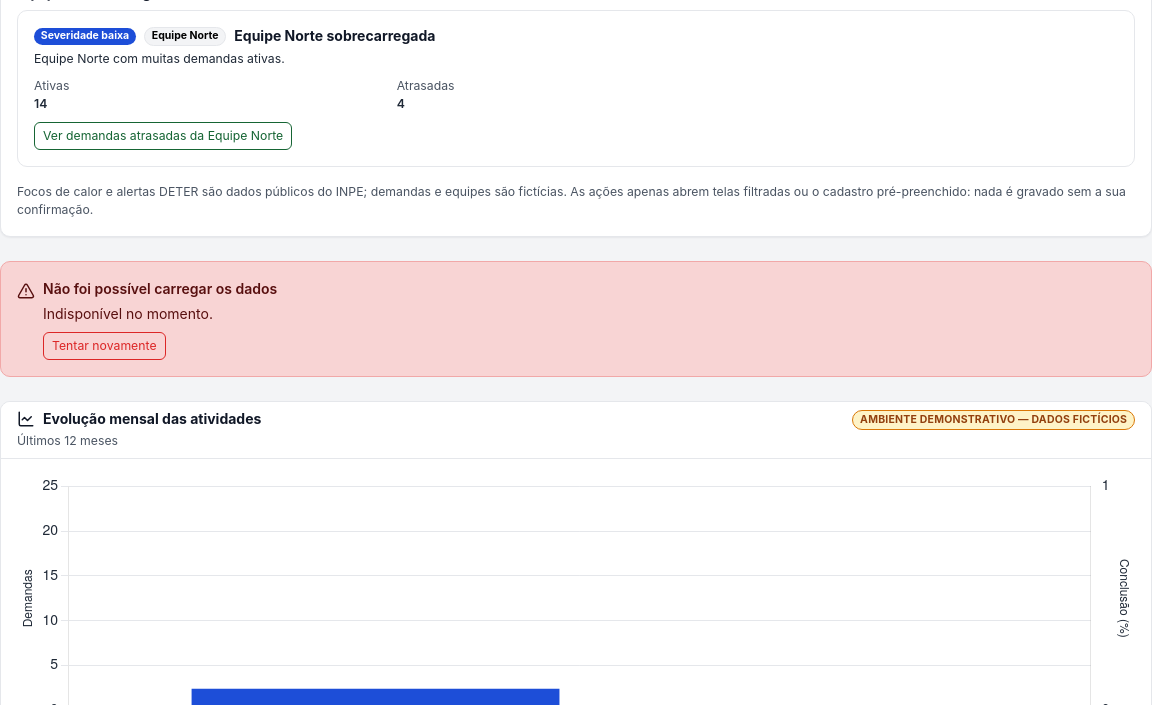
Scenario: HomePage (dashboard inicial) › mostra erro com "Tentar novamente"
(page scrolled)
Check: the message shows "Indisponível no momento", box [43,305,213,322]
Click the button "Tentar novamente". click: (104, 346)
box: [43,332,166,360]
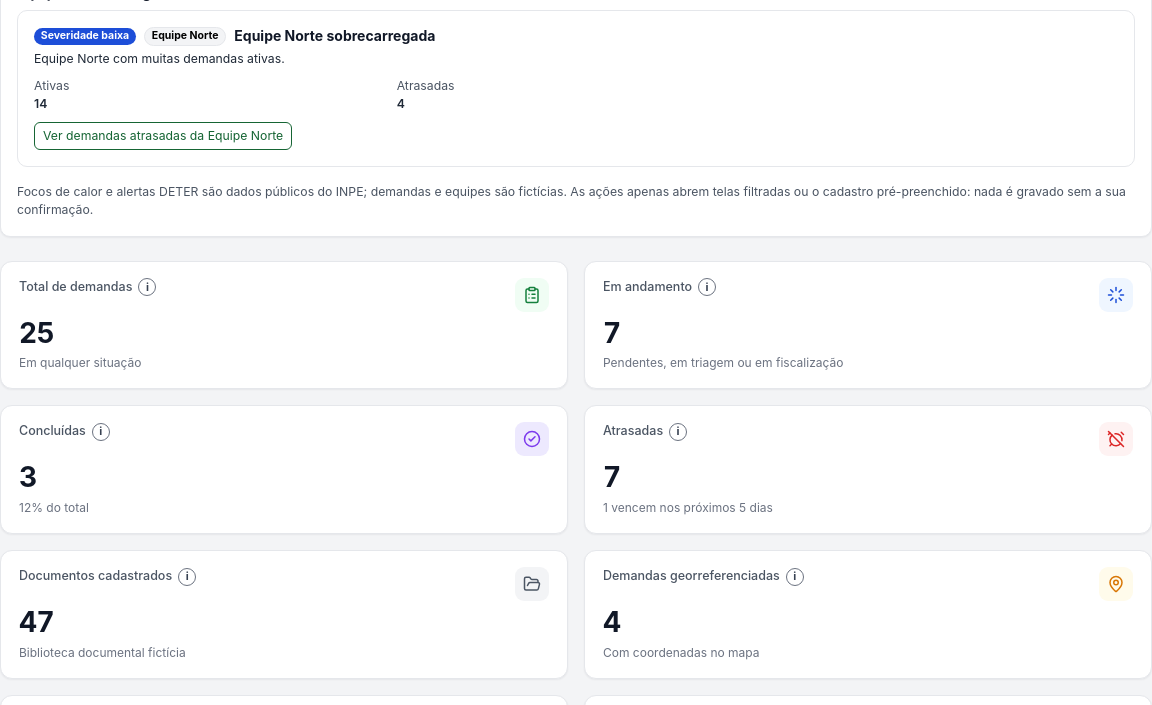
Check: the message "Não foi possível carregar os dados Indisponível no momento. Tentar novamente" is gone
